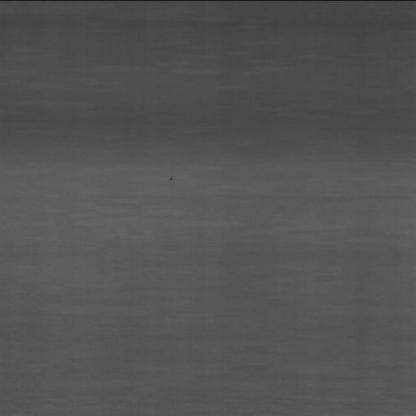inclusion: (160, 170, 184, 186)
